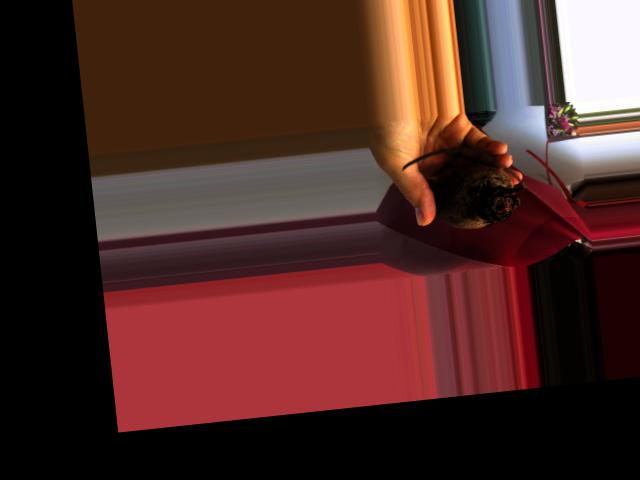beet: (401, 140, 530, 235)
